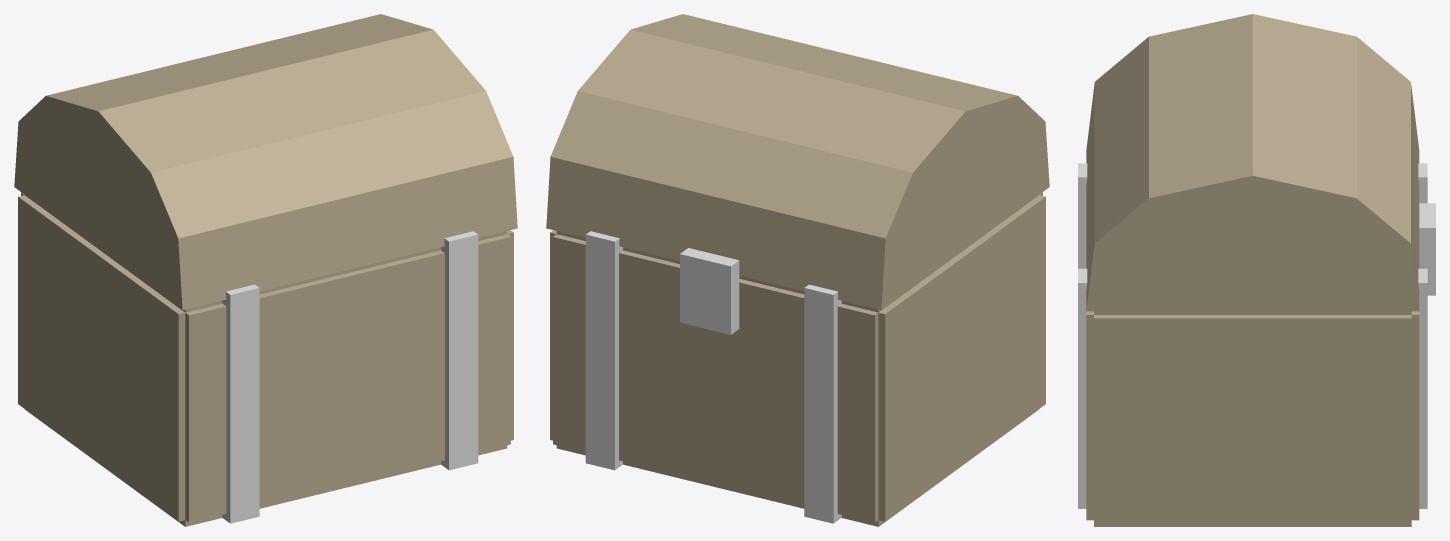
File: boreal_chest_v0.glb
The picture shows the model from 3 angles, left to right: view 1: azimuth 30°, elevation 25°; view 2: azimuth 150°, elevation 25°; view 3: azimuth 270°, elevation 25°; orthographic projection.
Parts seen in each view (by area): view 1: boreal_chest_v0; view 2: boreal_chest_v0; view 3: boreal_chest_v0.
Part boxes in pixels (left/top/right/bottom): boreal_chest_v0: left=14, top=14, right=517, bottom=526; boreal_chest_v0: left=546, top=14, right=1049, bottom=526; boreal_chest_v0: left=1078, top=14, right=1435, bottom=526.
Bounding box in the file's own units: 0.92 × 0.94 × 0.86.
